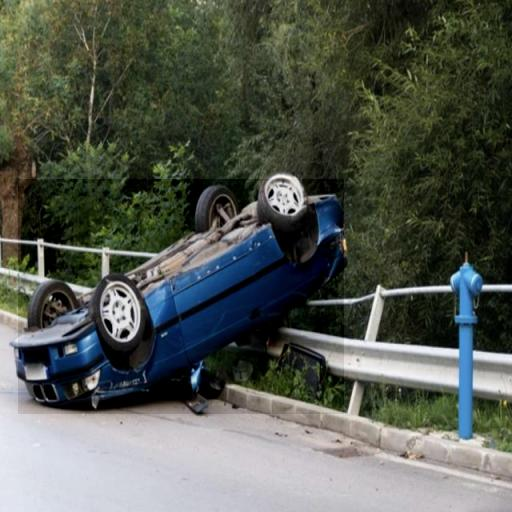小汽车撞物: (18, 179, 344, 414)
